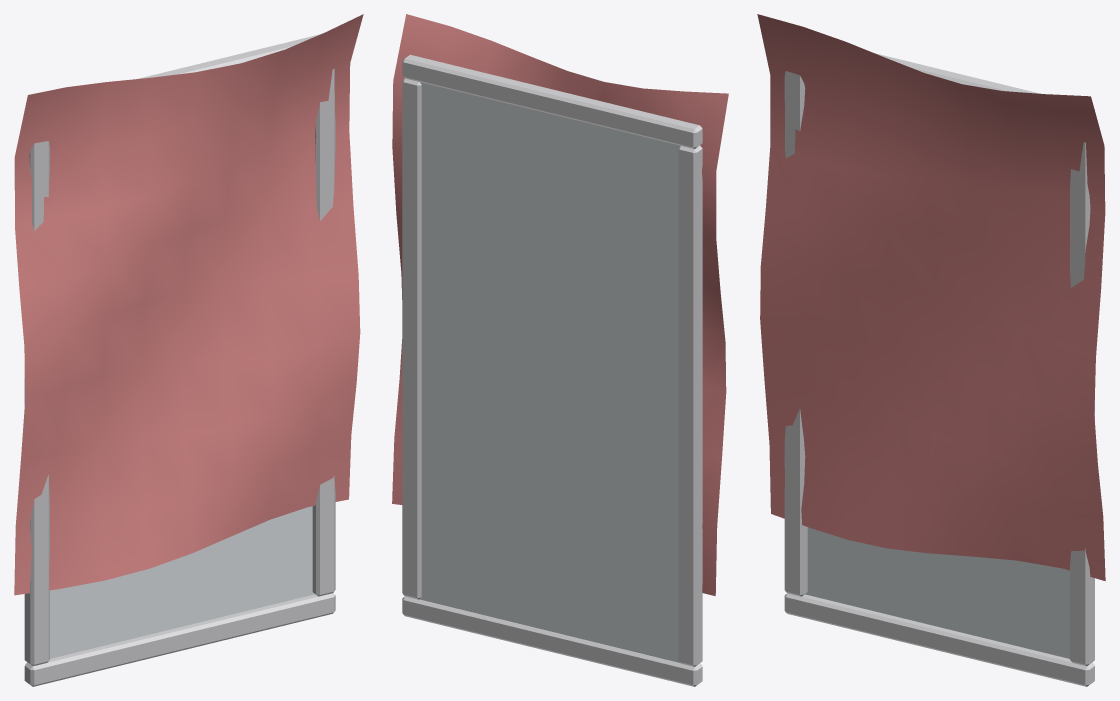
The model's file is mirror_towel.glb.
The picture shows the model from 3 angles, left to right: view 1: azimuth 30°, elevation 25°; view 2: azimuth 150°, elevation 25°; view 3: azimuth 330°, elevation 25°; orthographic projection. The views are drawn at different scales.
Visible parts, largest first — view 1: mirror_towel; view 2: mirror_towel; view 3: mirror_towel.
Part boxes in pixels (left/top/right/bottom): mirror_towel: left=14, top=14, right=363, bottom=686; mirror_towel: left=392, top=14, right=728, bottom=686; mirror_towel: left=757, top=14, right=1105, bottom=686.
Size of the model in its own units: 0.68 by 1.17 by 0.09.
